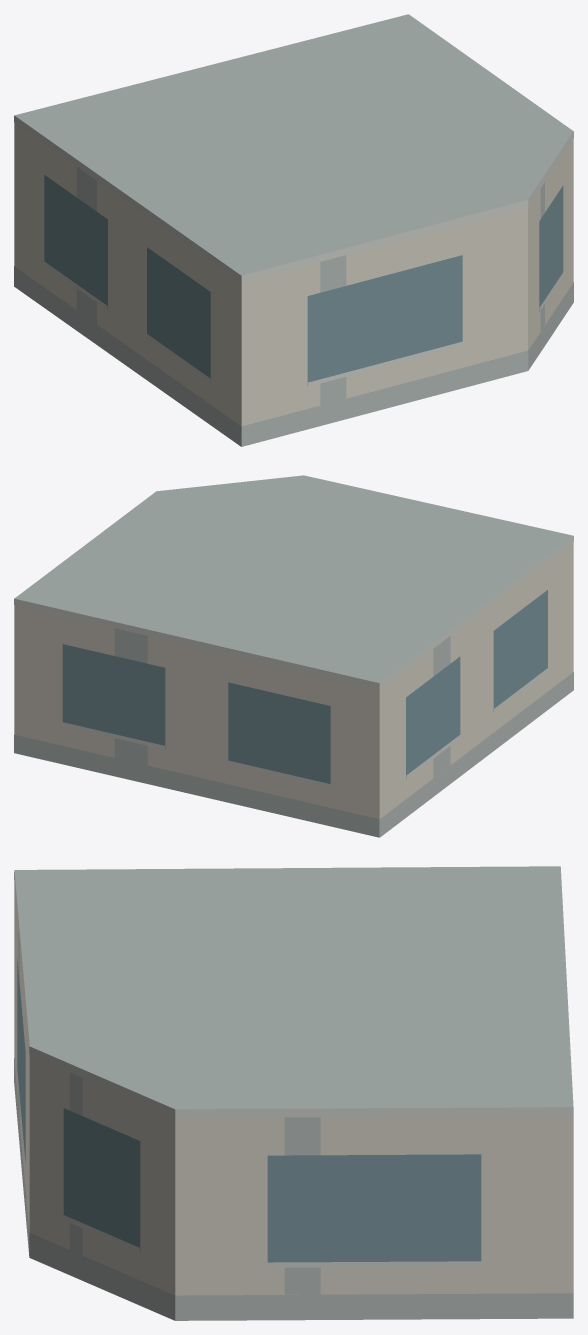
File: residential-f1902c41-ce9b-49b8-9286-da9da4383463.glb
3 views of the same model, one above another, from view 1: azimuth 30°, elevation 25°; view 2: azimuth 150°, elevation 25°; view 3: azimuth 270°, elevation 25° (orthographic). The views are drawn at different scales.
Visible parts, largest first — view 1: residential-f1902c41-ce9b-49b8-9286-da9da4383463.tmp; view 2: residential-f1902c41-ce9b-49b8-9286-da9da4383463.tmp; view 3: residential-f1902c41-ce9b-49b8-9286-da9da4383463.tmp.
Boxes of the visible parts, x1,y1,x2,y2 form: residential-f1902c41-ce9b-49b8-9286-da9da4383463.tmp: (14, 14, 573, 446); residential-f1902c41-ce9b-49b8-9286-da9da4383463.tmp: (14, 475, 573, 837); residential-f1902c41-ce9b-49b8-9286-da9da4383463.tmp: (14, 866, 573, 1320).
Size of the model in its own units: 7.54 by 3.05 by 7.33.
